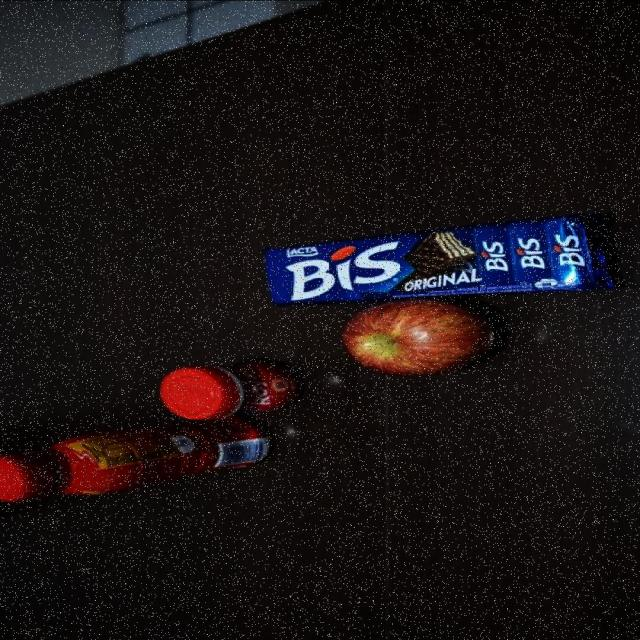Apple: (339, 300, 494, 380)
ChocolateMilk: (0, 418, 277, 502)
Yeast: (155, 358, 304, 418)
